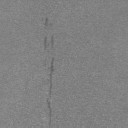red iron: (49, 57, 54, 95), (46, 98, 52, 118), (44, 37, 47, 50), (44, 18, 48, 26), (51, 36, 54, 46)
